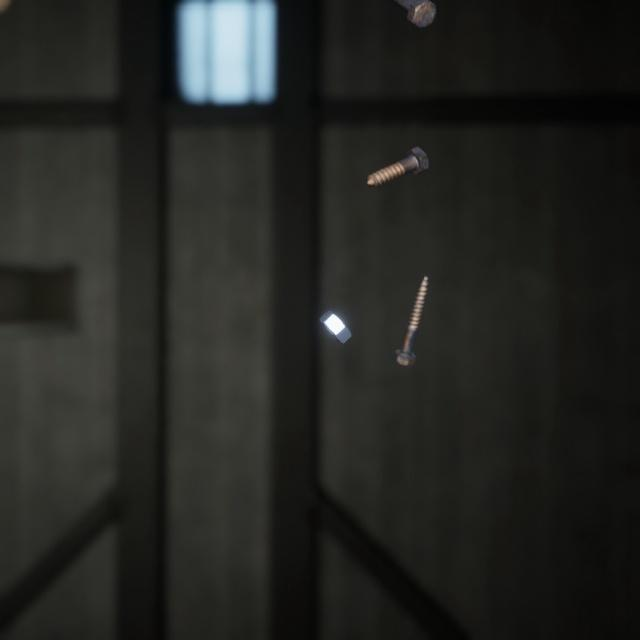bolt: (388, 254, 432, 353), (362, 129, 433, 178), (393, 0, 441, 28)
nut: (316, 288, 357, 330)
